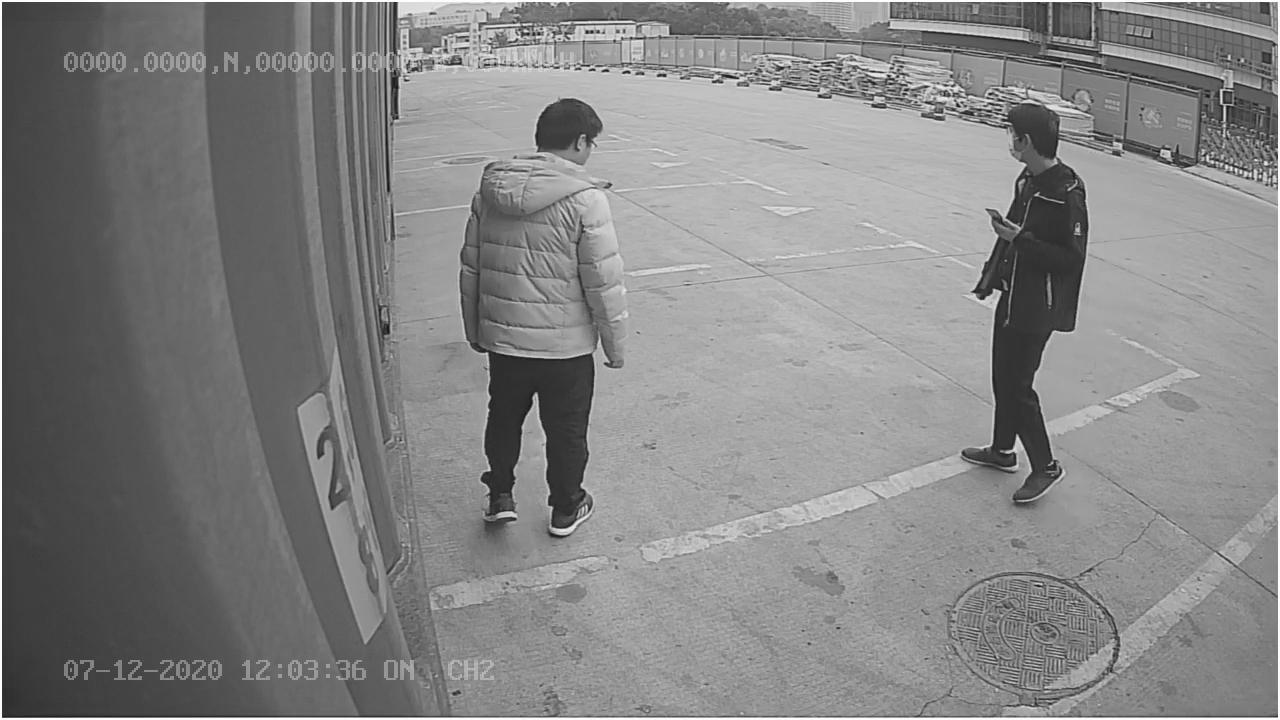person: (458, 93, 634, 538), (958, 91, 1098, 508)
